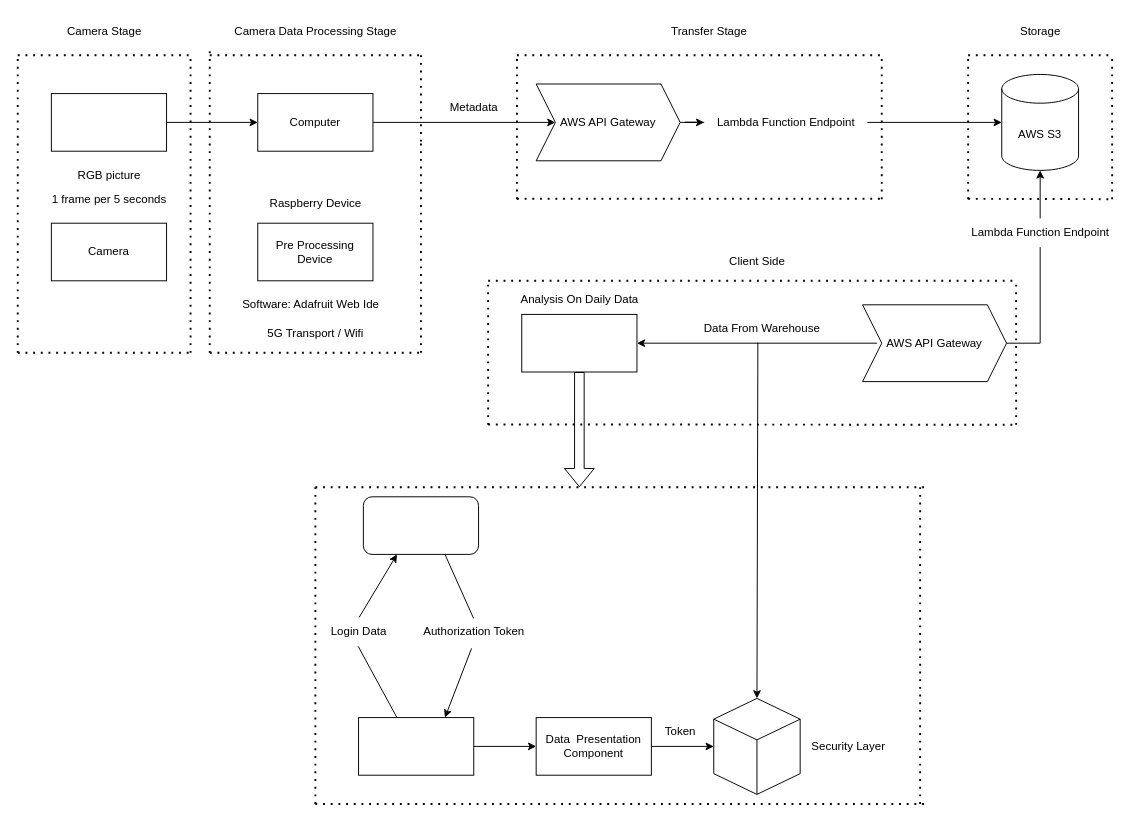
The diagram is 1138 pixels wide and 822 high, and some of its shapes have lost their labels. The shapes that lost their labels are listed below. From the top down, each one's centre as x and y in pixels, then its label:
At pixel 108 122: "Computer Camera".
At pixel 579 342: "Client Side System".
At pixel 420 525: "Authorization Server".
At pixel 416 746: "Login Component".
